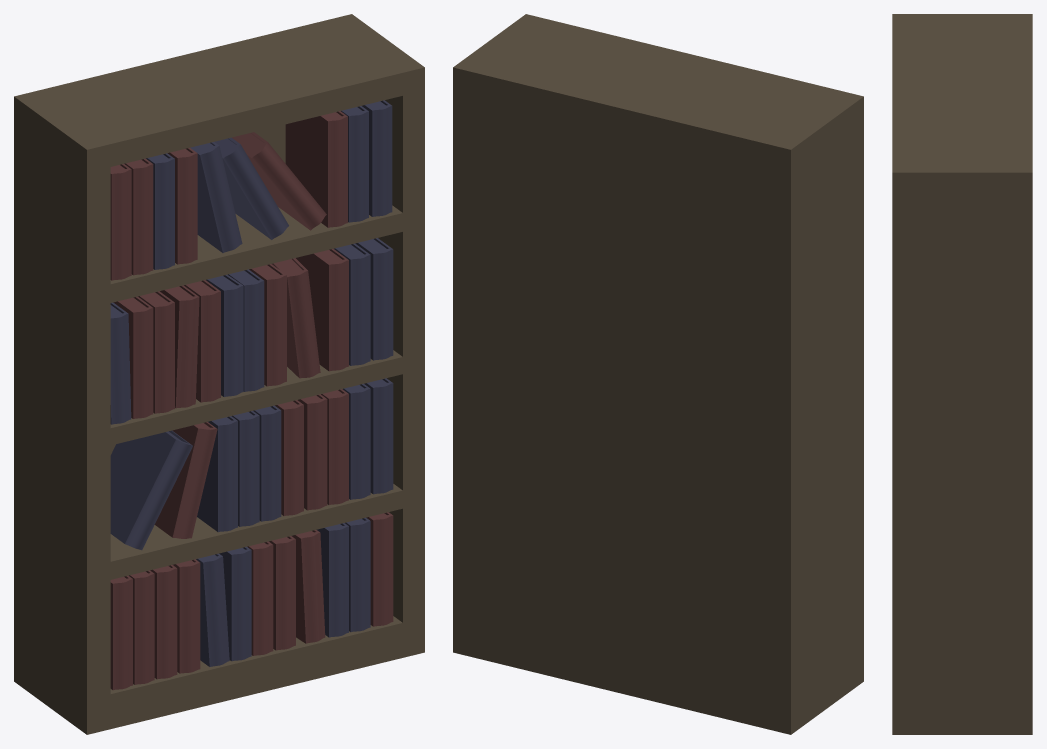
File: Office_Bookshelf.fbx
3 renders of one model, left to right at view 1: azimuth 30°, elevation 25°; view 2: azimuth 150°, elevation 25°; view 3: azimuth 270°, elevation 25°, orthographic. The views are drawn at different scales.
Parts seen in each view (by area): view 1: pCube49; view 2: pCube49; view 3: pCube49.
Part boxes in pixels (x1=…): pCube49: x1=14, y1=14, x2=424, y2=734; pCube49: x1=453, y1=14, x2=863, y2=734; pCube49: x1=892, y1=14, x2=1032, y2=734.
Bounding box in the file's own units: 4.19 × 6.93 × 1.57.
